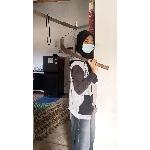Golok: (60, 41, 106, 71)
